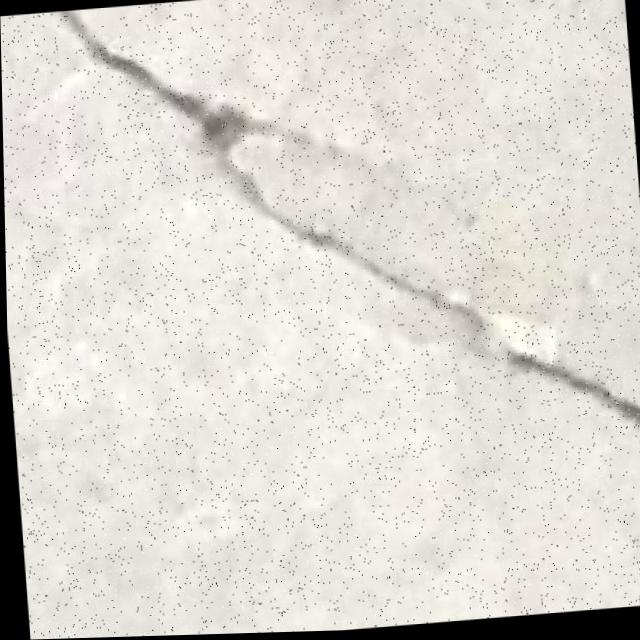Crack: (53, 0, 640, 483)
